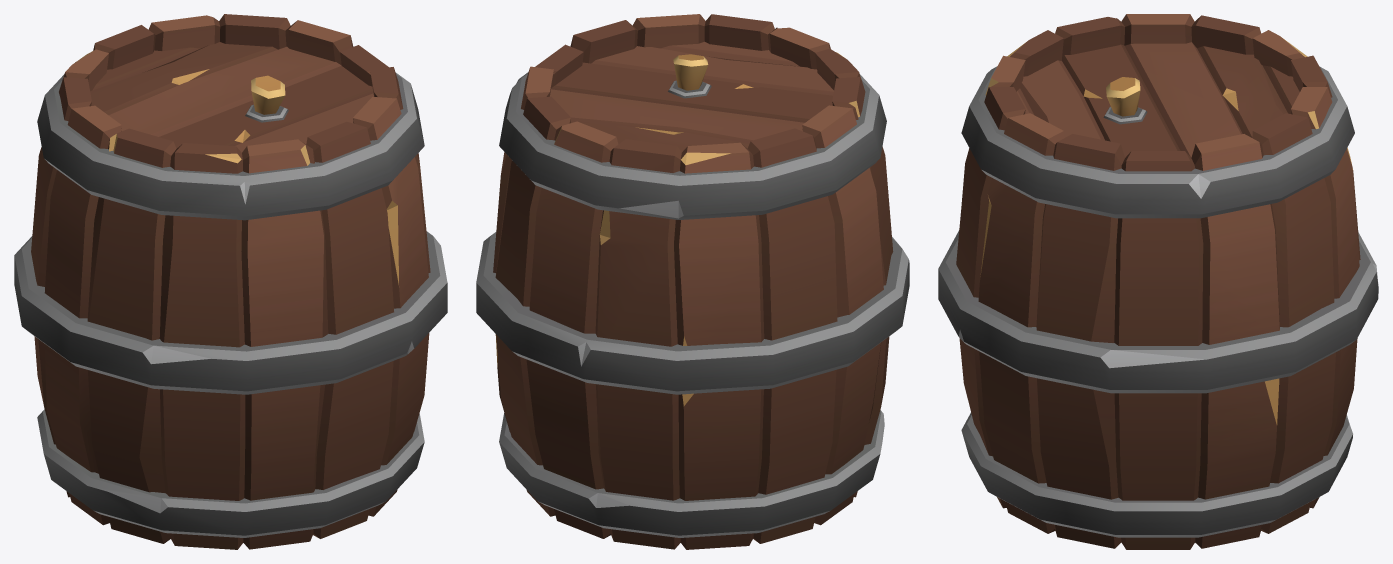
File: Barrel_1_B.glb
3 renders of one model, left to right at view 1: azimuth 30°, elevation 25°; view 2: azimuth 150°, elevation 25°; view 3: azimuth 270°, elevation 25°, orthographic.
Parts seen in each view (by area): view 1: Barrel_1_B; view 2: Barrel_1_B; view 3: Barrel_1_B.
Boxes of the visible parts, bbox=[...] form: Barrel_1_B: bbox=[14, 14, 447, 549]; Barrel_1_B: bbox=[476, 14, 909, 549]; Barrel_1_B: bbox=[938, 14, 1378, 549].
Bounding box in the file's own units: 0.8643 × 0.9066 × 0.887.
2 materials, 2 textured.
